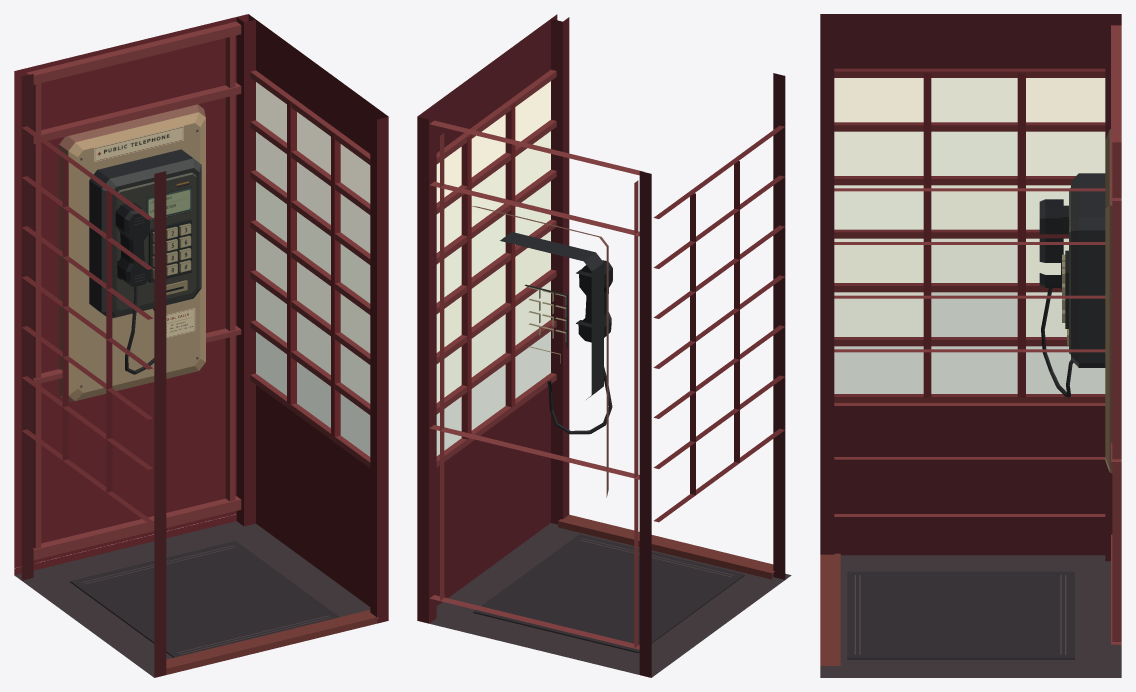
The model's file is telphone interior.glb.
3 views of the same model, side by side, from view 1: azimuth 30°, elevation 25°; view 2: azimuth 150°, elevation 25°; view 3: azimuth 270°, elevation 25° (orthographic). The views are drawn at different scales.
Parts seen in each view (by area): view 1: walls, wall deco, glass, buttons; view 2: walls, glass, wall deco; view 3: walls, glass, wall deco.
Boxes of the visible parts, <box> form: walls: <box>14,14,388,677</box>; wall deco: <box>59,104,205,401</box>; glass: <box>256,82,370,456</box>; buttons: <box>94,126,195,337</box>; walls: <box>417,14,791,677</box>; glass: <box>436,81,550,455</box>; wall deco: <box>470,205,612,497</box>; walls: <box>820,14,1121,677</box>; glass: <box>834,78,1105,393</box>; wall deco: <box>1039,129,1112,473</box>.
Bounding box in the file's own units: 1.08 × 2.22 × 1.12.
3 materials, 1 textured.
